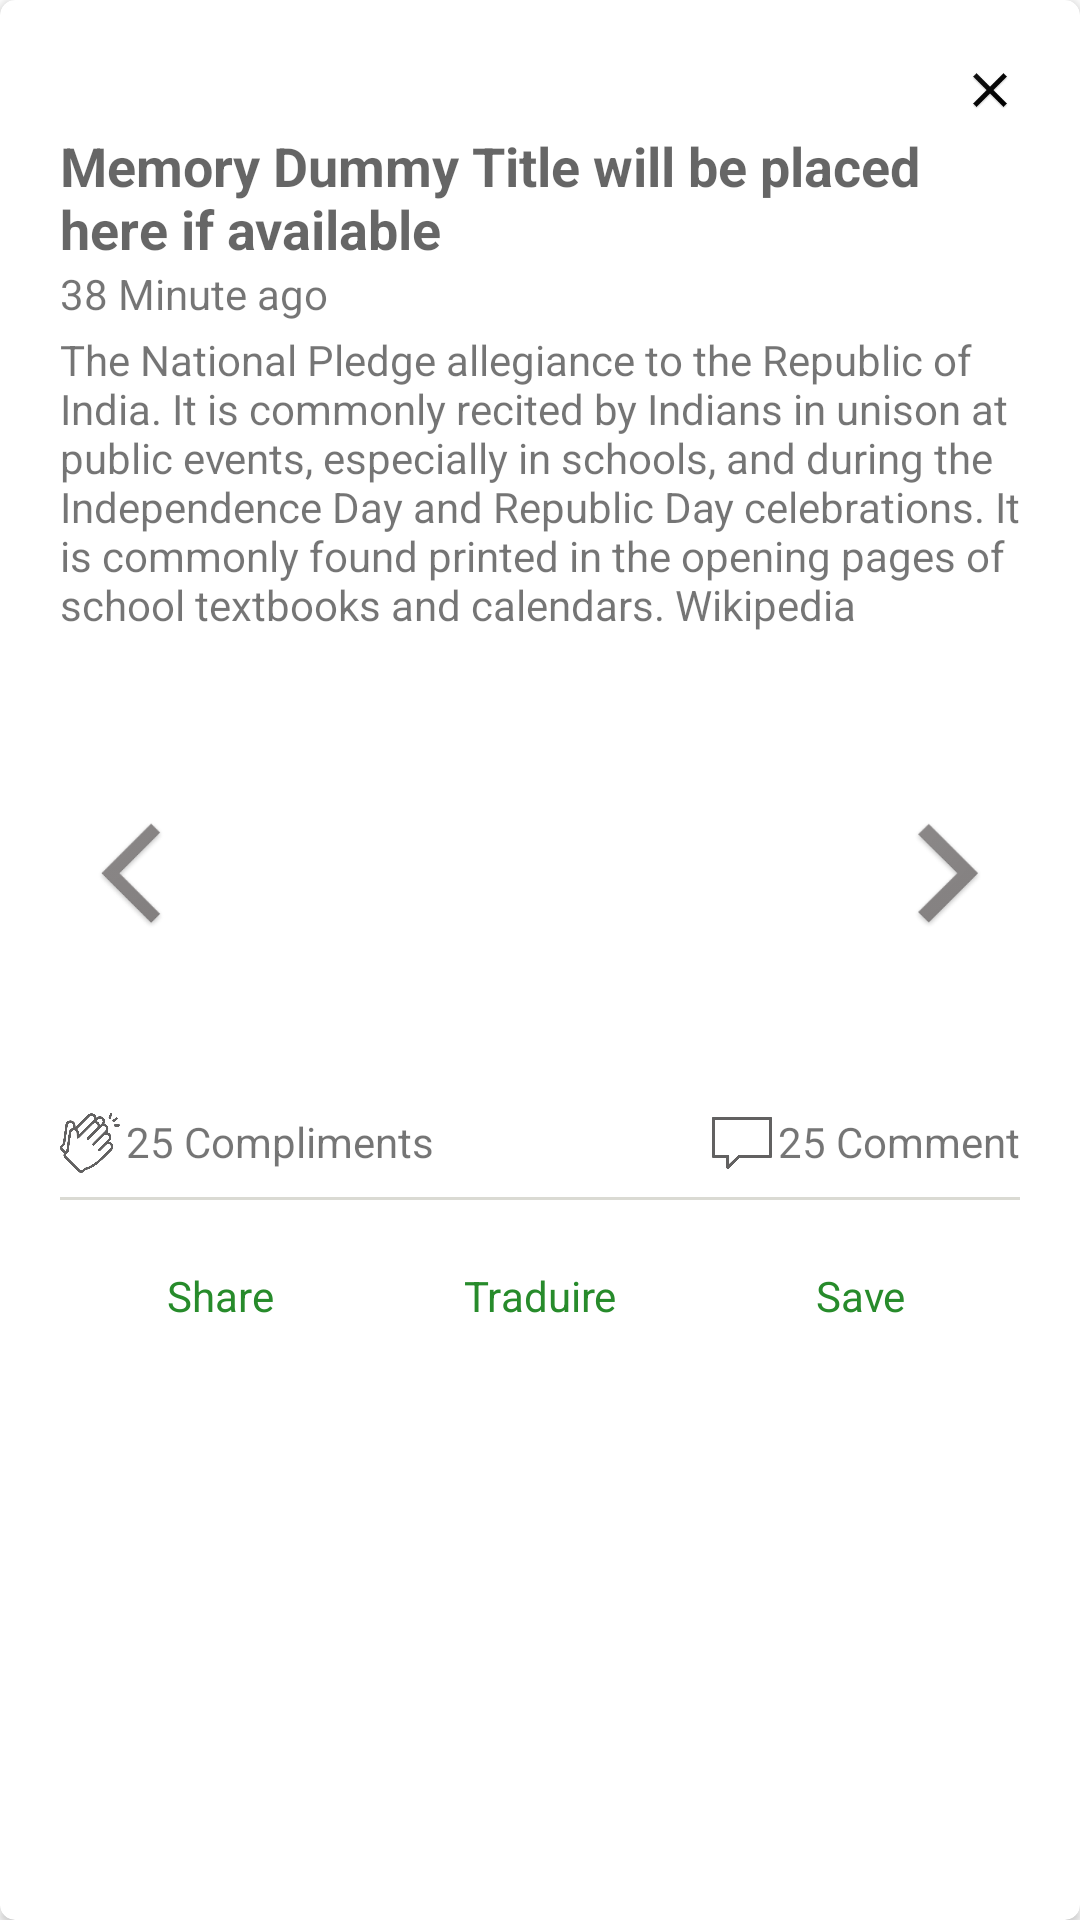

Icons on this 1080*1920 Android screen, each with the point to tap as [x,y]:
clap: [90,1143]
close: [990,90]
faint back: [130,874]
faint front: [948,873]
